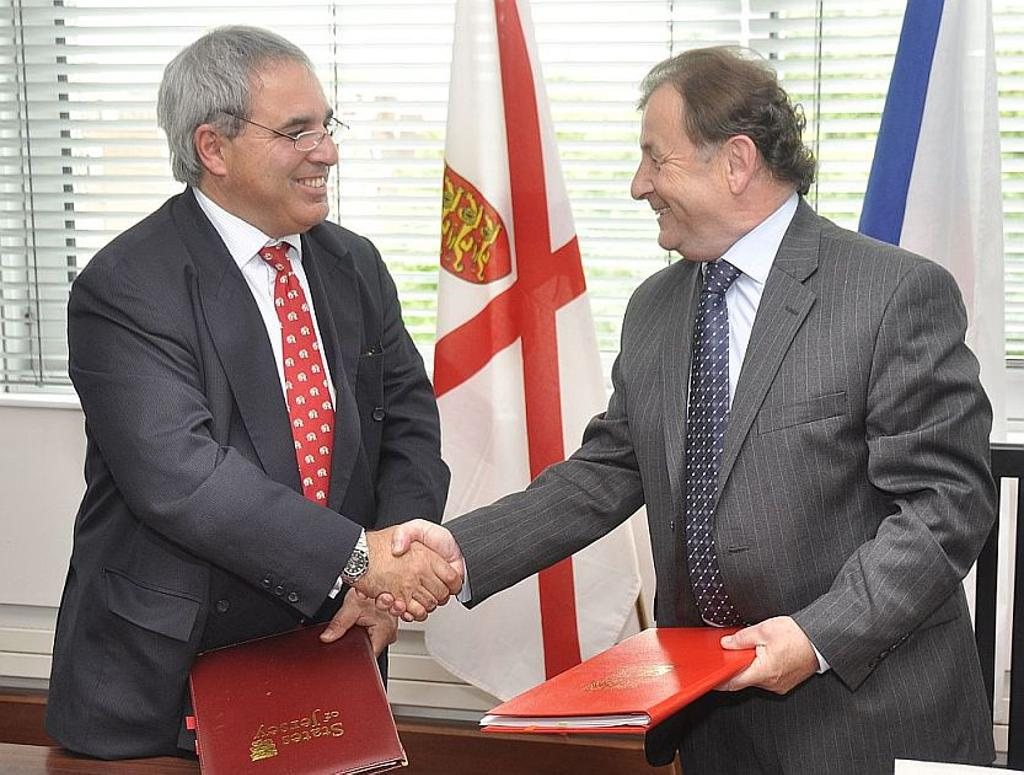face: (232, 60, 340, 226), (630, 84, 720, 252)
